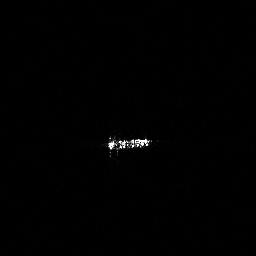ship: (104, 133, 156, 156)
